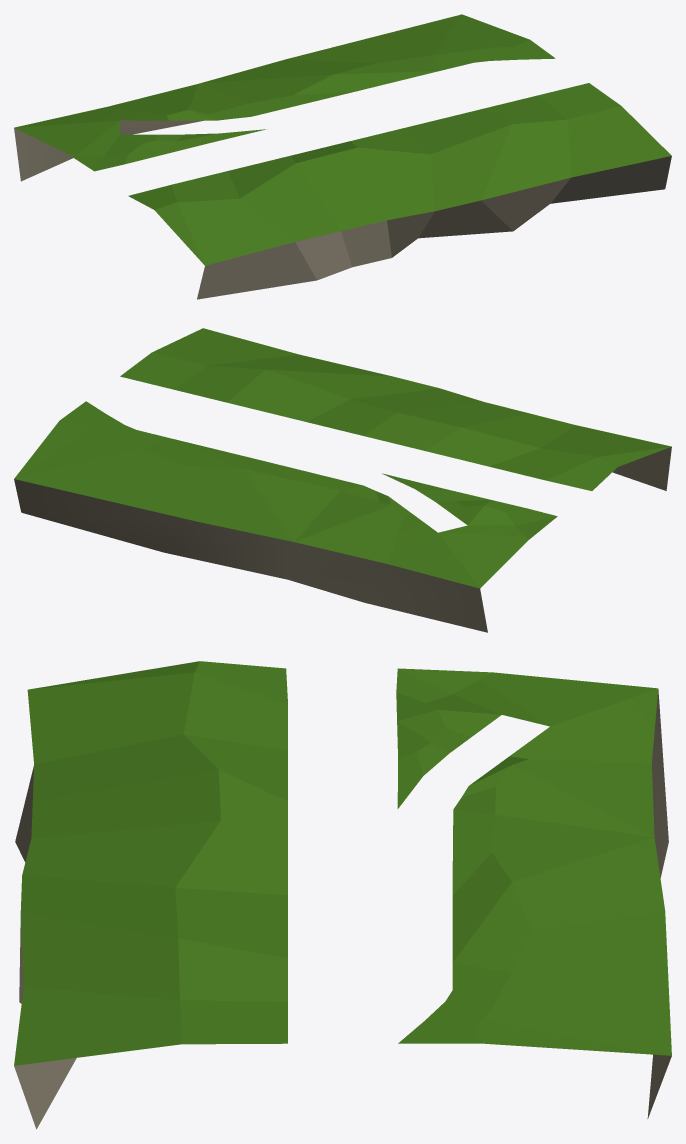
File: land_offramp.fbx
3 renders of one model, top to bottom at view 1: azimuth 30°, elevation 25°; view 2: azimuth 150°, elevation 25°; view 3: azimuth 270°, elevation 25°, orthographic. The views are drawn at different scales.
Visible parts, largest first — view 1: land_offramp; view 2: land_offramp; view 3: land_offramp.
Boxes of the visible parts, x1=… form: land_offramp: x1=14, y1=14, x2=671, y2=299; land_offramp: x1=14, y1=328, x2=671, y2=632; land_offramp: x1=14, y1=661, x2=671, y2=1129.
Bounding box in the file's own units: 0.8036 × 0.1204 × 0.5913.
